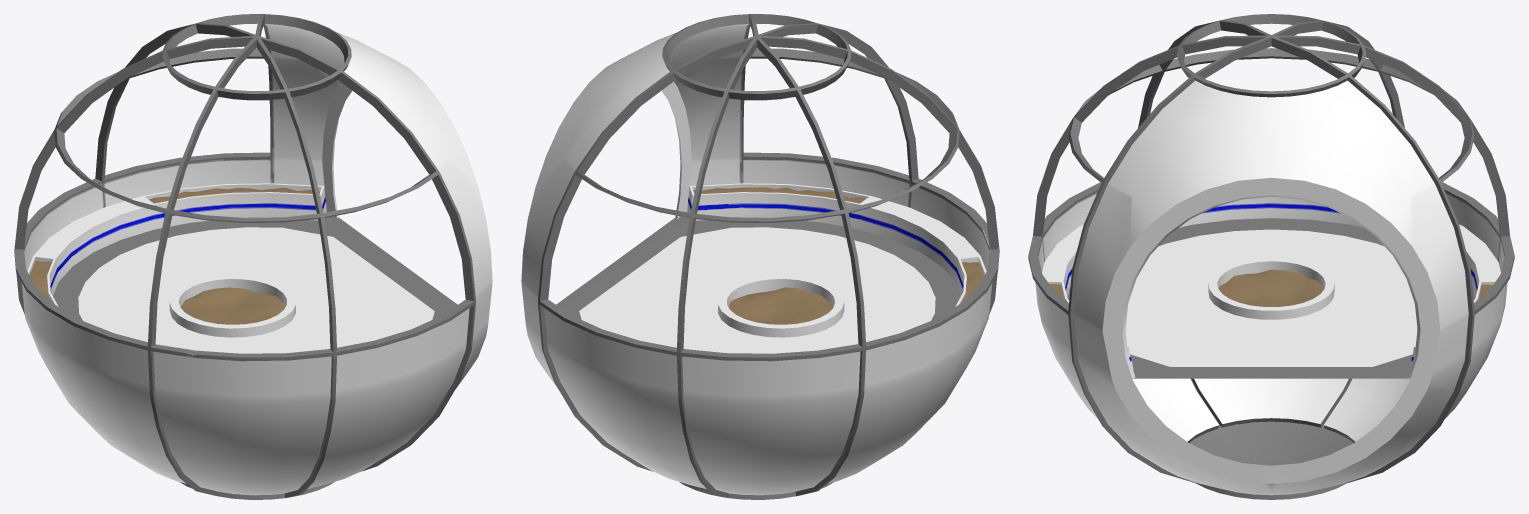
The model's file is HabInvernadero.fbx.
The picture shows the model from 3 angles, left to right: view 1: azimuth 30°, elevation 25°; view 2: azimuth 150°, elevation 25°; view 3: azimuth 270°, elevation 25°; orthographic projection.
Parts seen in each view (by area): view 1: HabInvernadero; view 2: HabInvernadero; view 3: HabInvernadero.
Part boxes in pixels (bbox=[...]): HabInvernadero: bbox=[14, 14, 492, 499]; HabInvernadero: bbox=[521, 14, 999, 499]; HabInvernadero: bbox=[1028, 14, 1514, 499].
Size of the model in its own units: 2803 by 3261 by 3262.
1 material, 1 textured.
